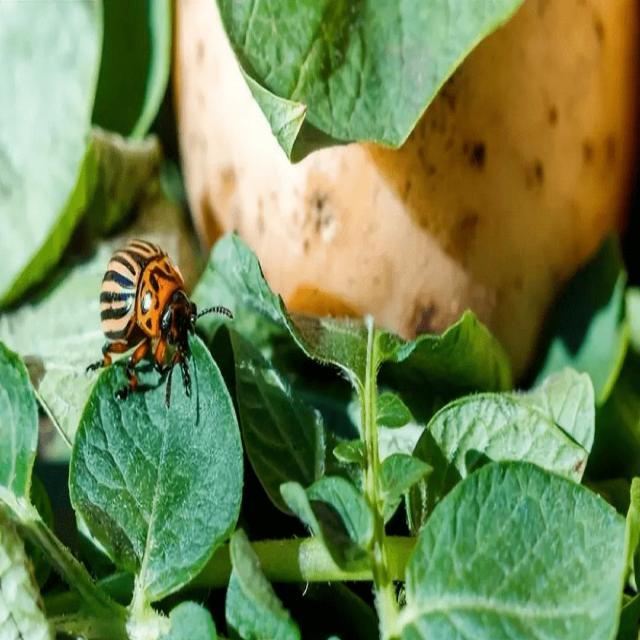ShuCaiHuaBanChong-Grown-: (94, 218, 208, 390)
